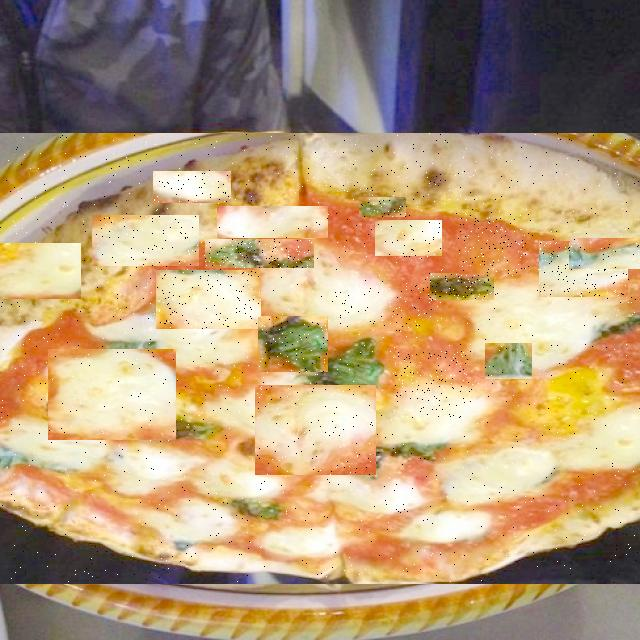Basil: (258, 317, 328, 373), (206, 240, 316, 268), (570, 239, 640, 269), (430, 274, 494, 300), (485, 344, 532, 379), (359, 198, 406, 217)
Cheese: (48, 350, 176, 440), (255, 386, 376, 475), (156, 271, 261, 329), (394, 351, 474, 418), (92, 216, 199, 266), (540, 242, 630, 297), (340, 283, 433, 331), (0, 244, 81, 299), (459, 214, 529, 274), (217, 207, 328, 238), (406, 175, 488, 209), (153, 172, 231, 203), (375, 222, 442, 258), (305, 160, 380, 192)
Pizza: (0, 134, 640, 583)
